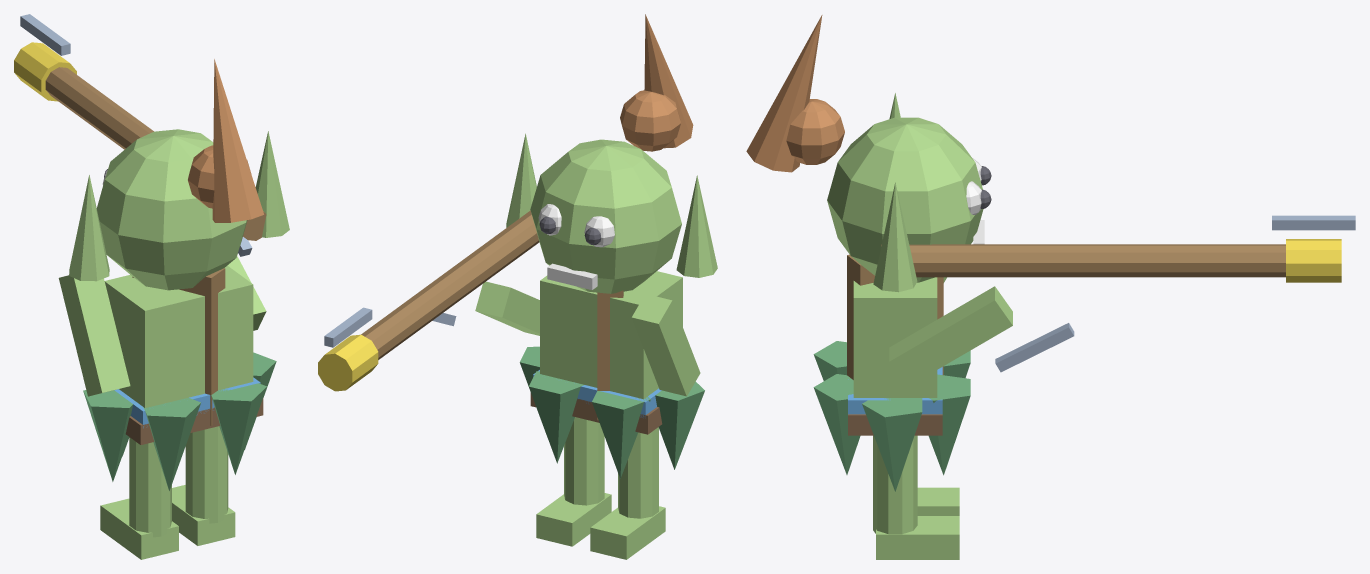
The model's file is dart_goblin.glb.
3 views of the same model, side by side, from view 1: azimuth 30°, elevation 25°; view 2: azimuth 150°, elevation 25°; view 3: azimuth 270°, elevation 25° (orthographic). The views are drawn at different scales.
Visible parts, largest first — view 1: dart_goblin; view 2: dart_goblin; view 3: dart_goblin.
Boxes of the visible parts, x1,y1,x2,y2 form: dart_goblin: (14, 14, 289, 559); dart_goblin: (318, 14, 717, 559); dart_goblin: (746, 15, 1355, 559).
Size of the model in its own units: 0.979 by 2.07 by 2.18.
